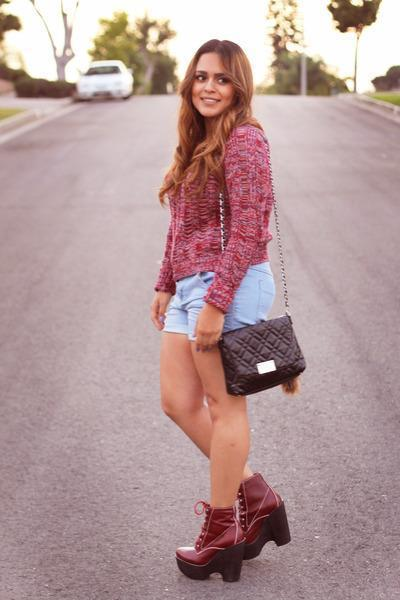bag: (213, 312, 305, 395)
shirt: (156, 108, 275, 314)
shoe: (176, 473, 290, 582)
shorts: (164, 263, 274, 339)
